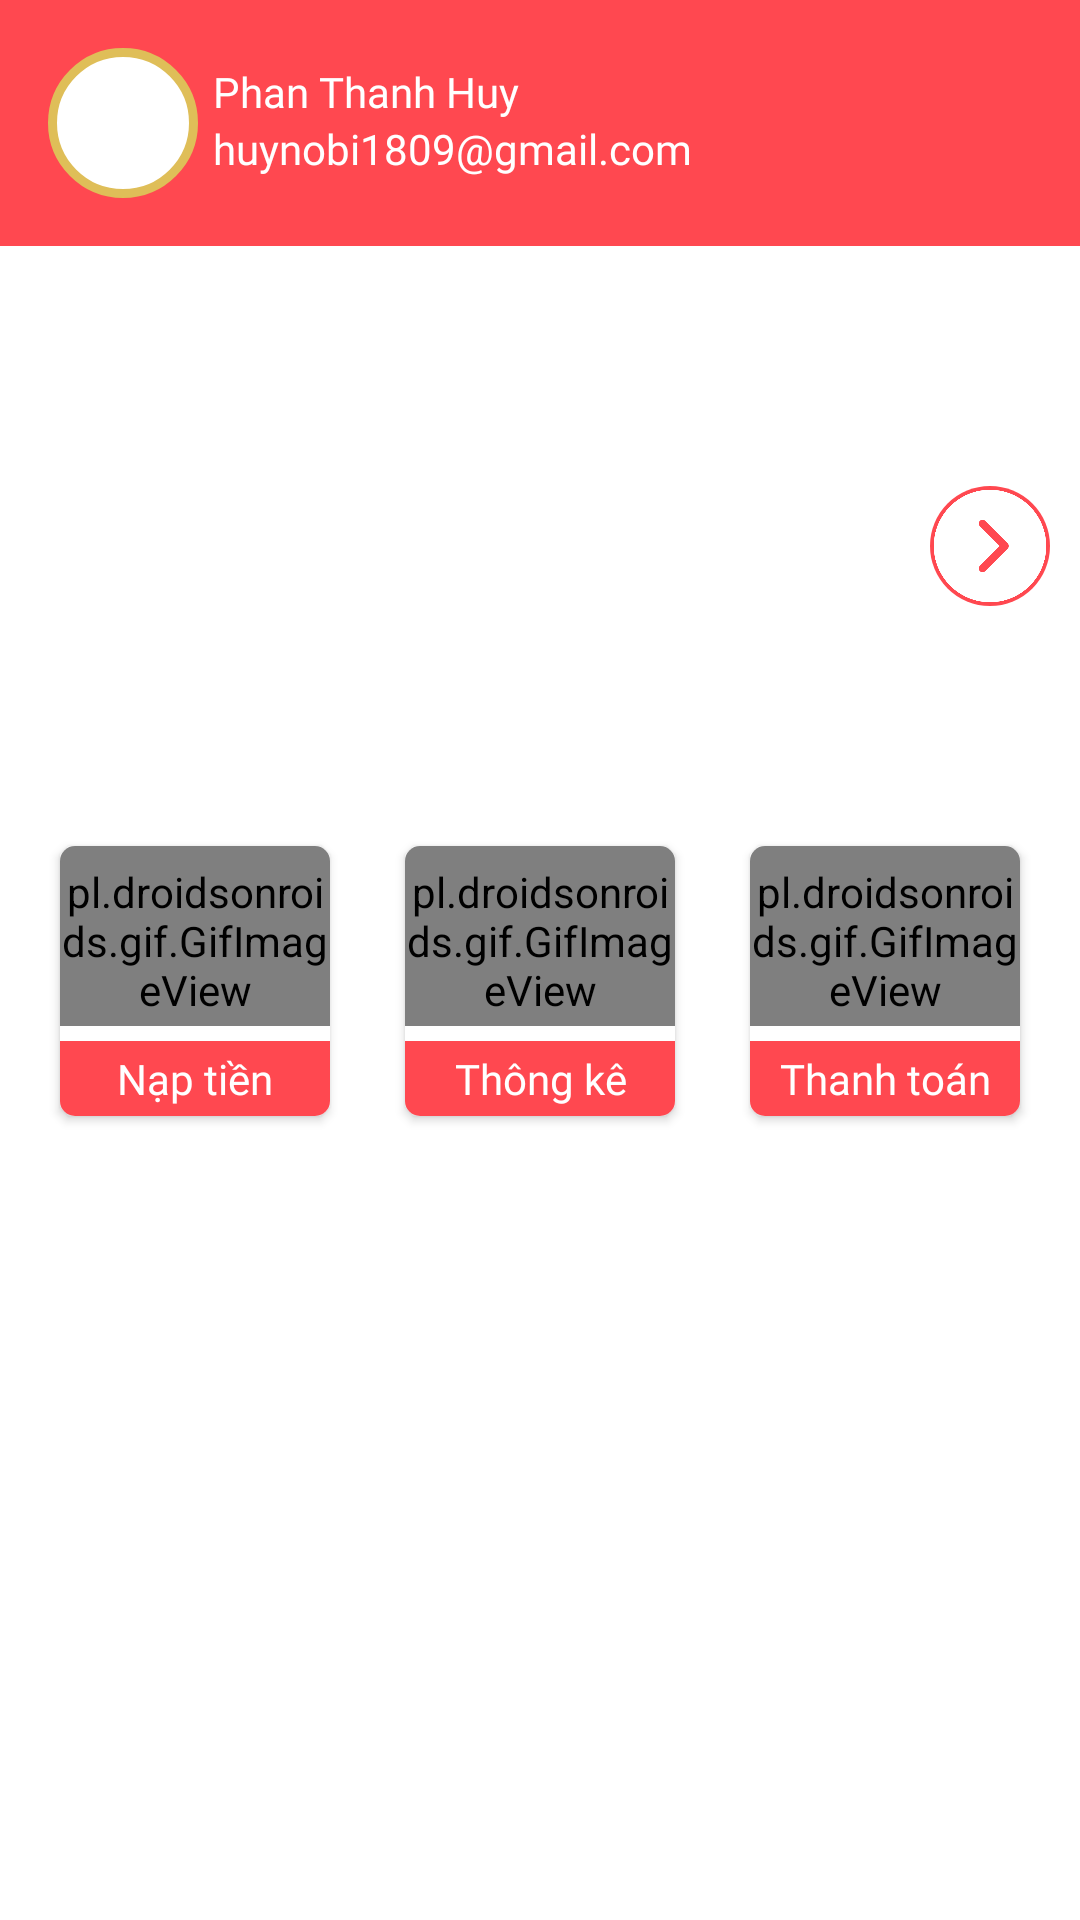

Named icons in this screenshot (1080 x 1920) and their bounding boxes, bbox(x1, y1, x2, y2):
next: bbox(930, 486, 1050, 606)
